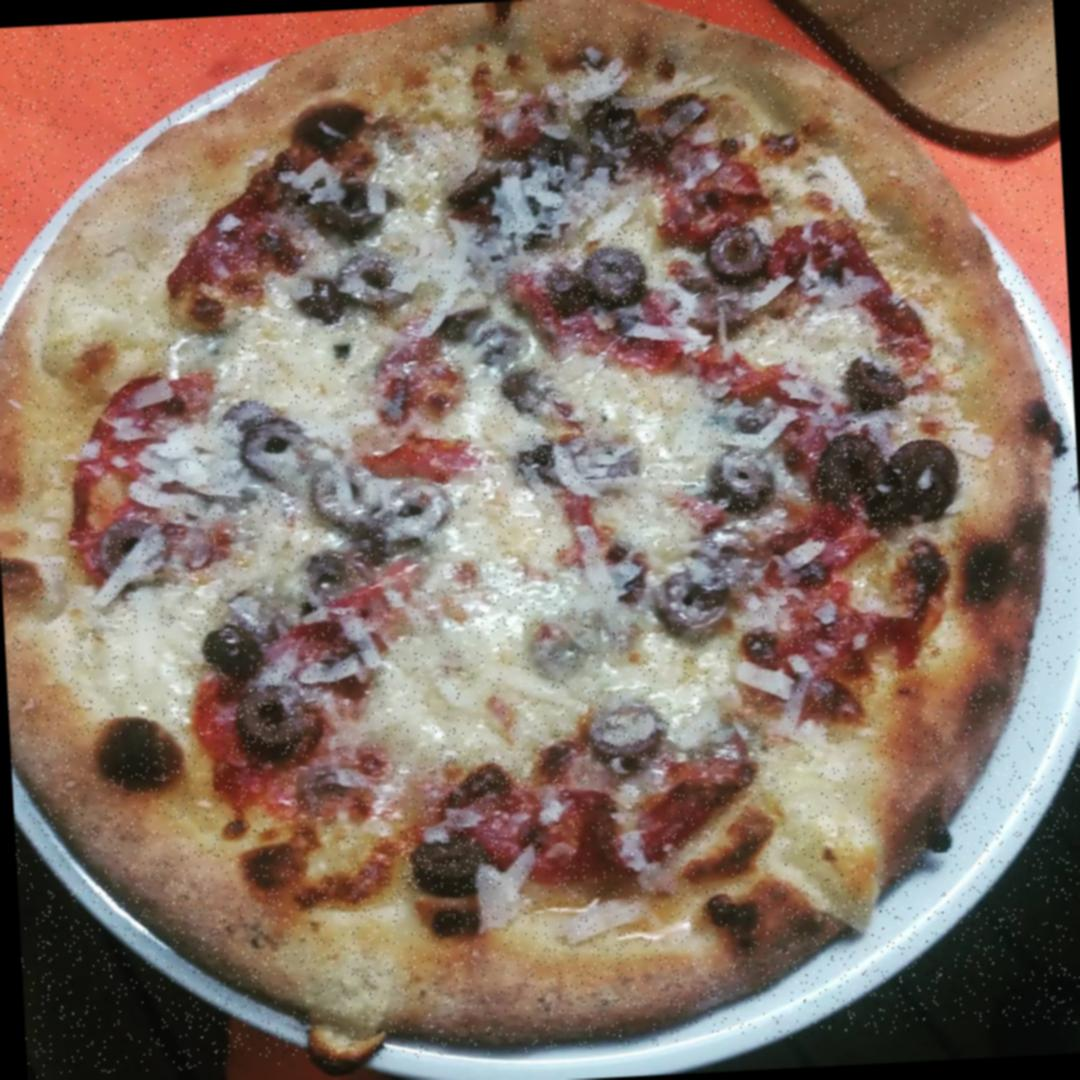Olives: (807, 422, 896, 536), (881, 428, 972, 532), (646, 543, 736, 636), (314, 162, 405, 246), (238, 410, 324, 493), (400, 824, 501, 892), (93, 506, 175, 589), (588, 690, 674, 769), (232, 670, 312, 754), (708, 432, 785, 516), (327, 247, 411, 323), (290, 89, 372, 166), (835, 341, 924, 411), (569, 76, 646, 156), (374, 476, 454, 546), (310, 457, 382, 532), (190, 617, 270, 684), (526, 242, 598, 316), (704, 216, 774, 292), (440, 149, 512, 222), (583, 226, 645, 306), (294, 539, 360, 608), (290, 263, 352, 334), (295, 764, 364, 824), (465, 318, 534, 373), (494, 362, 558, 421), (511, 431, 570, 488), (446, 756, 517, 802), (209, 391, 280, 436)
Pizza: (0, 0, 1080, 1077)
